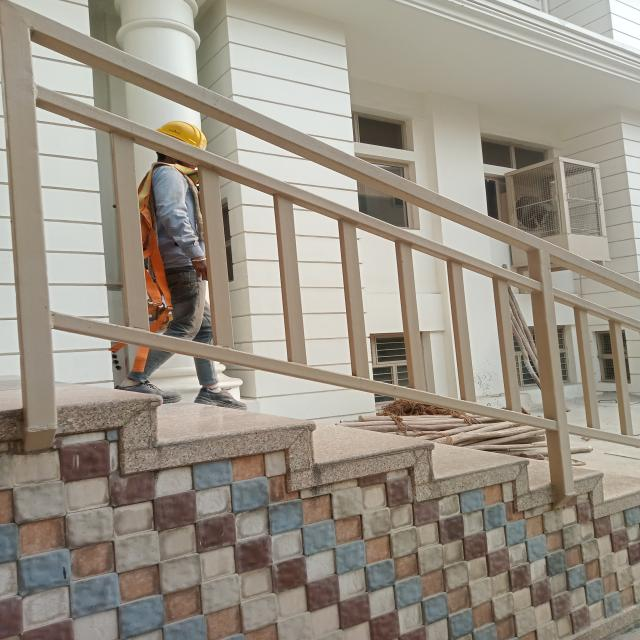no jacket: (138, 109, 249, 416)
